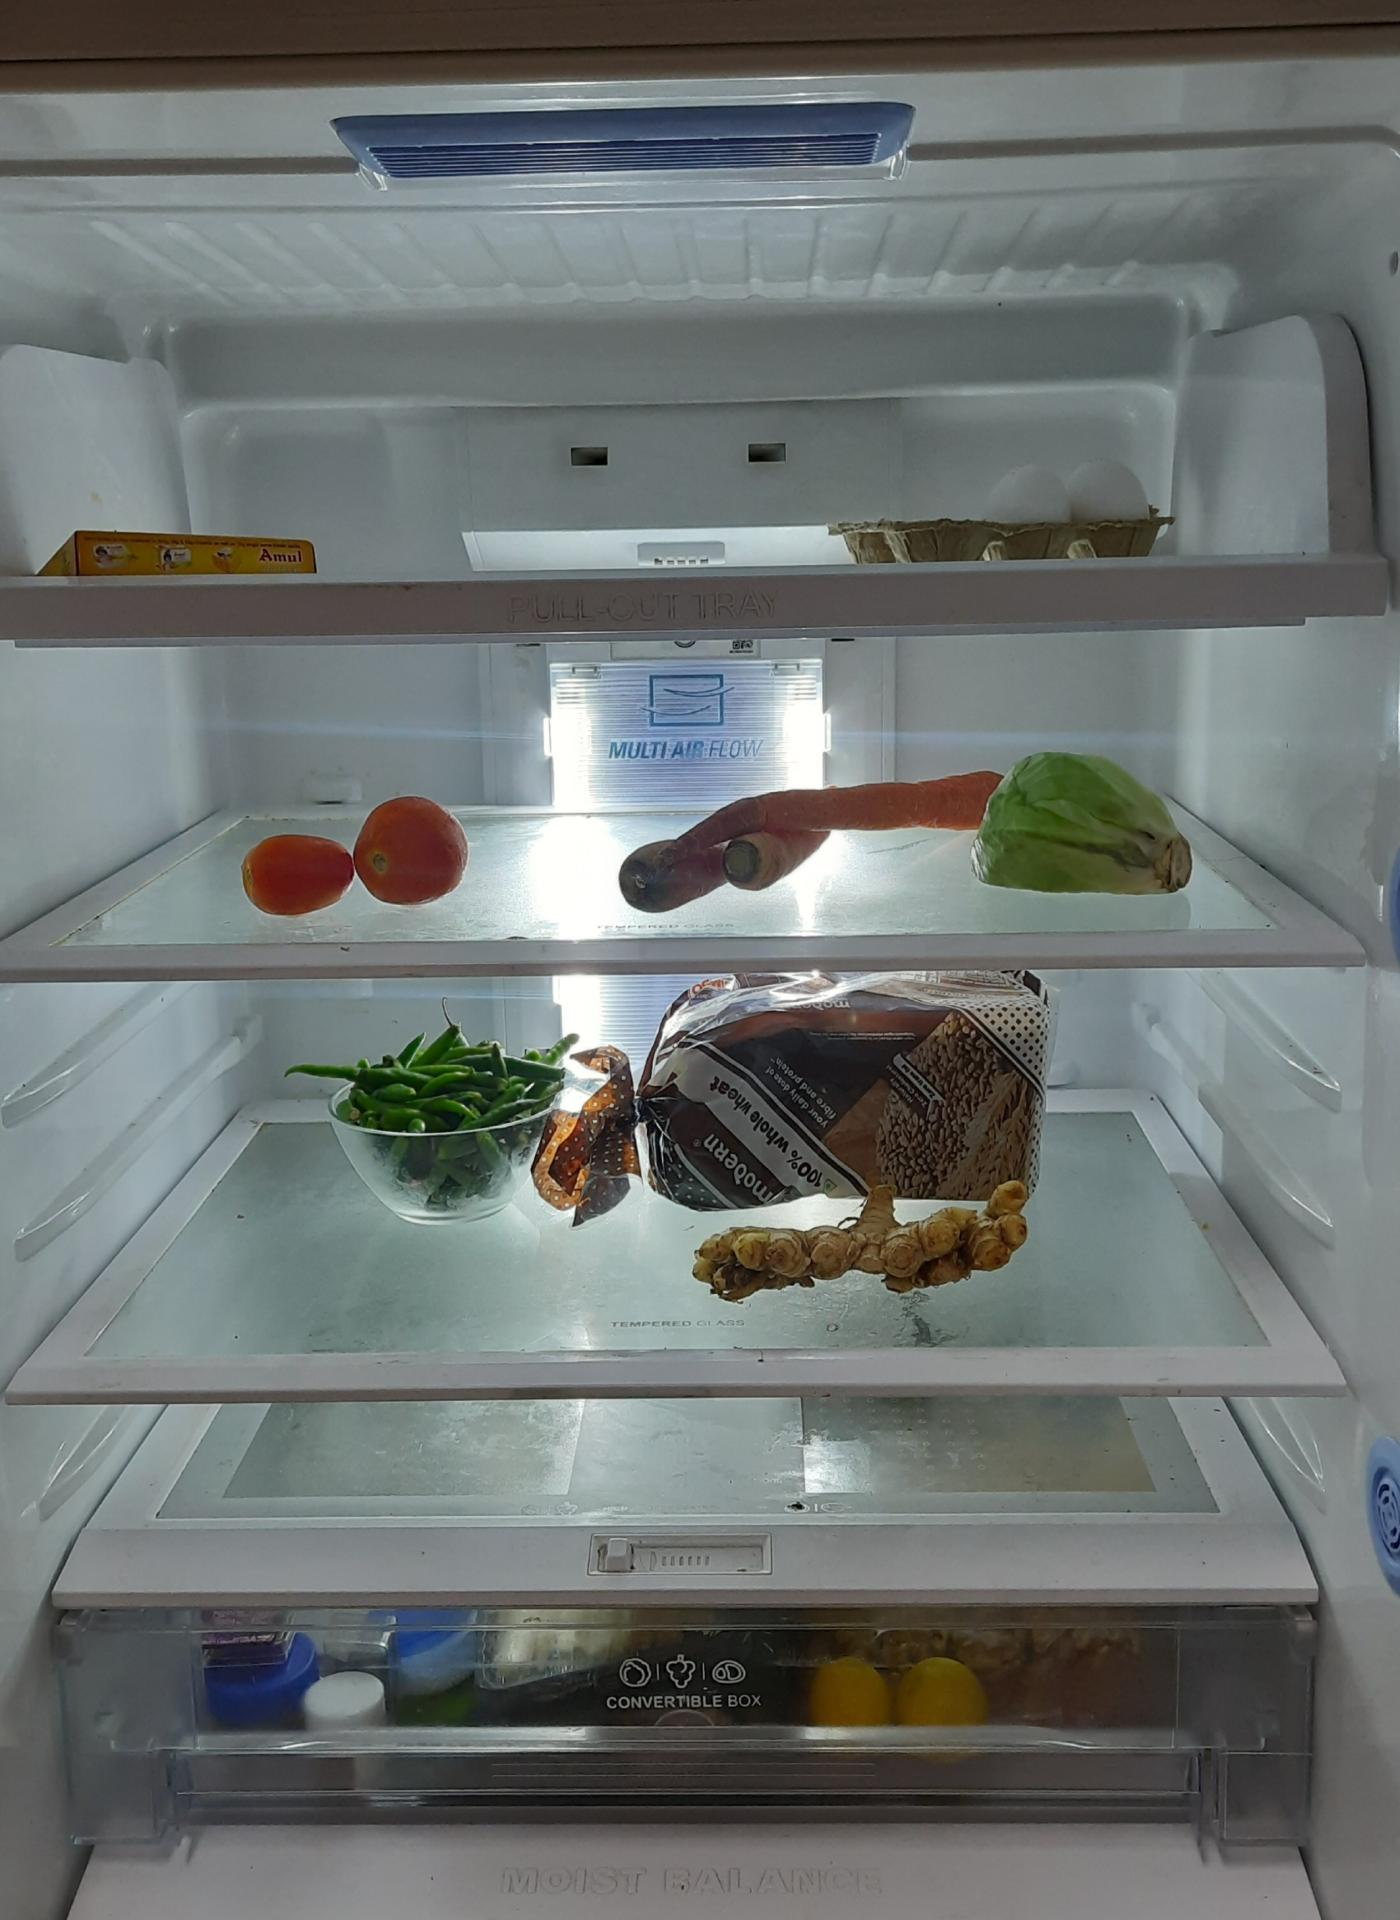bread: (553, 976, 1064, 1216)
butter: (35, 530, 318, 589)
cabbage: (977, 755, 1200, 897)
carrots: (619, 774, 1008, 915)
chillies: (342, 1026, 567, 1212)
egg: (994, 461, 1150, 545)
ginger: (688, 1197, 1046, 1301)
tomato: (242, 796, 473, 920)
